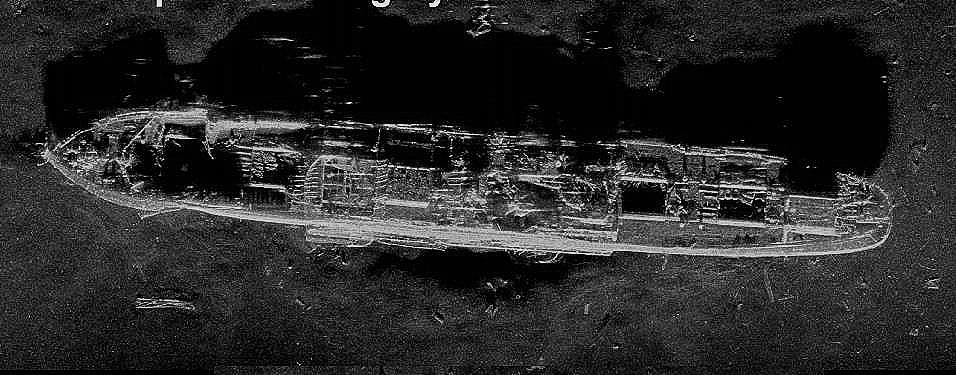ship: (38, 89, 903, 270)
